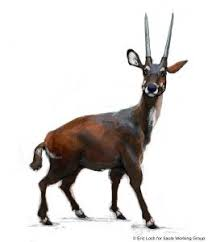sao_la: (31, 18, 186, 210)
